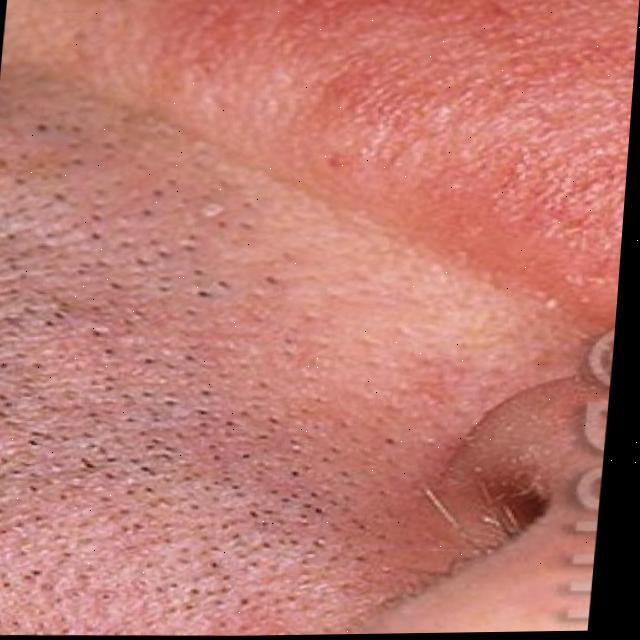Rosacea: (121, 0, 640, 316)
